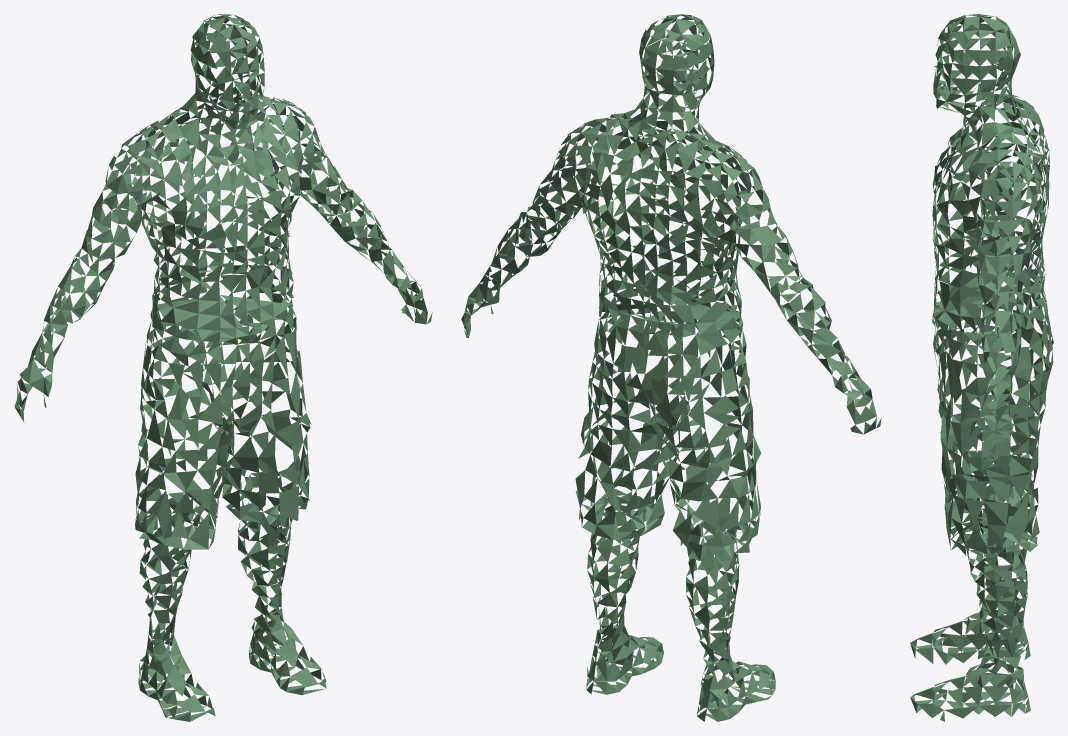
The model's file is franklin.glb.
3 views of the same model, side by side, from view 1: azimuth 30°, elevation 25°; view 2: azimuth 150°, elevation 25°; view 3: azimuth 270°, elevation 25° (orthographic).
Visible parts, largest first — view 1: world; view 2: world; view 3: world.
Part boxes in pixels (bbox=[...]): world: bbox=[14, 14, 432, 721]; world: bbox=[461, 14, 881, 721]; world: bbox=[910, 14, 1053, 721].
Bounding box in the file's own units: 1.17 × 1.82 × 0.3545.
